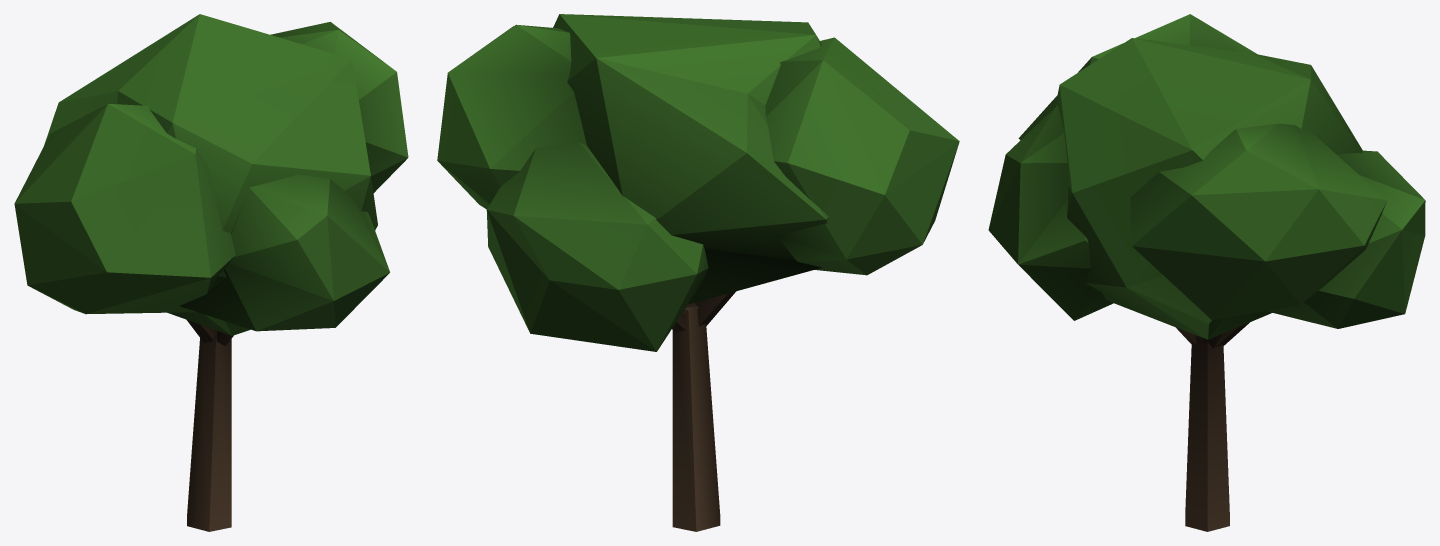
File: broadleaf_2.glb
3 renders of one model, left to right at view 1: azimuth 30°, elevation 25°; view 2: azimuth 150°, elevation 25°; view 3: azimuth 270°, elevation 25°, orthographic. The views are drawn at different scales.
Parts seen in each view (by area): view 1: trunk; view 2: trunk; view 3: trunk.
Part boxes in pixels (x1,y1,x2,y2): trunk: [14, 14, 408, 531]; trunk: [437, 14, 959, 531]; trunk: [988, 14, 1425, 531].
Bounding box in the file's own units: 5.32 × 5.93 × 5.08.
